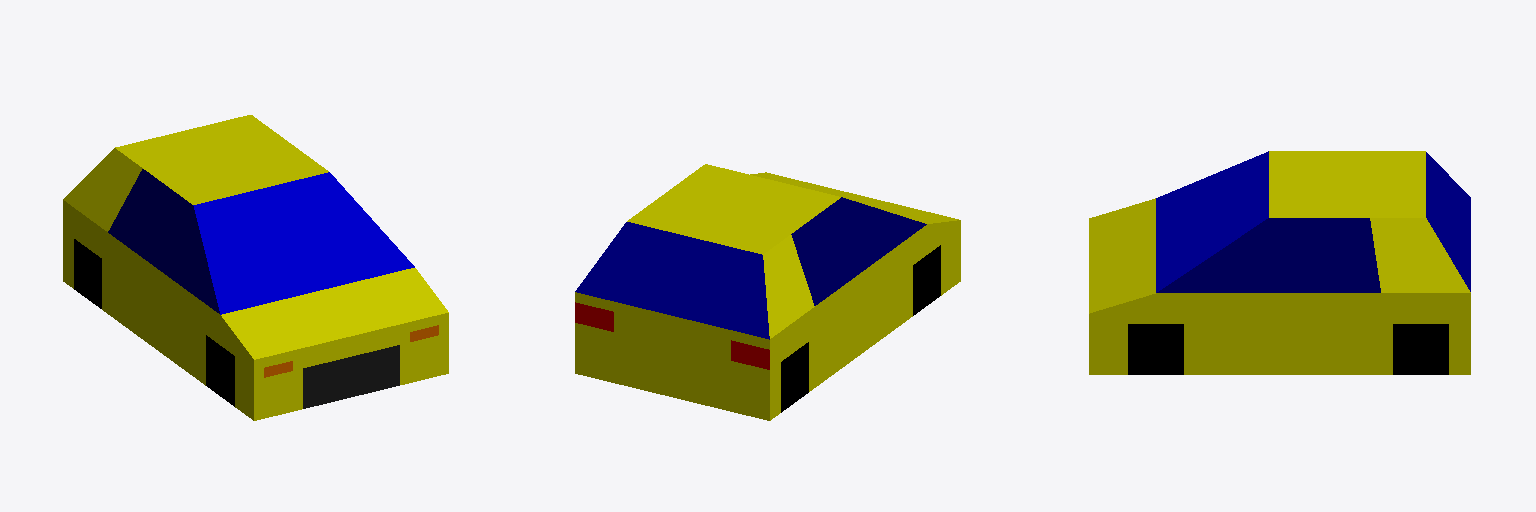
Rendered from small_car.obj.
The picture shows the model from 3 angles: view 1: azimuth 30°, elevation 25°; view 2: azimuth 150°, elevation 25°; view 3: azimuth 270°, elevation 25°; orthographic projection.
Parts seen in each view (by area): view 1: small_car; view 2: small_car; view 3: small_car.
Boxes of the visible parts, x1=… form: small_car: x1=63, y1=115, x2=448, y2=420; small_car: x1=575, y1=164, x2=960, y2=420; small_car: x1=1089, y1=151, x2=1470, y2=374.
Size of the model in its own units: 10 by 7 by 17.